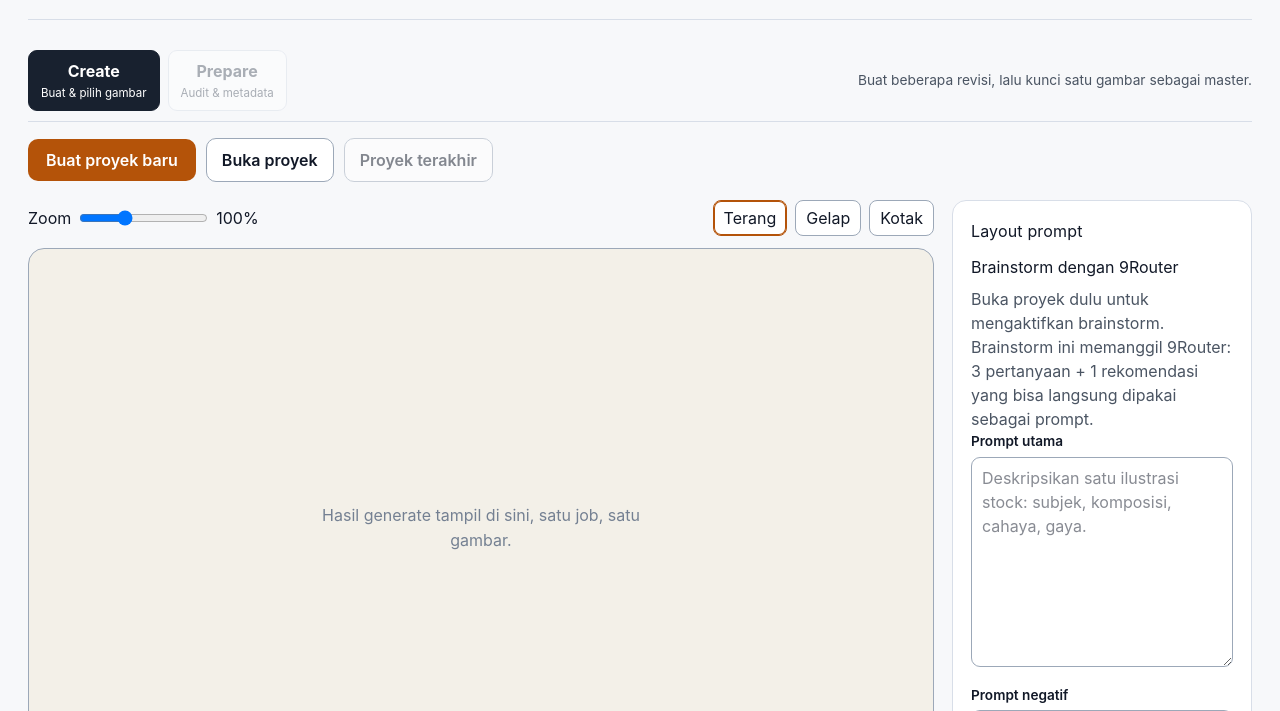
Test: Beranda — meja kerja studio › lists real project revisions in the kandidat strip after reopening a project with assets
Click the button "Buka proyek".
click(270, 160)  # box top-left (206, 138), bottom-right (334, 182)
(page scrolled)
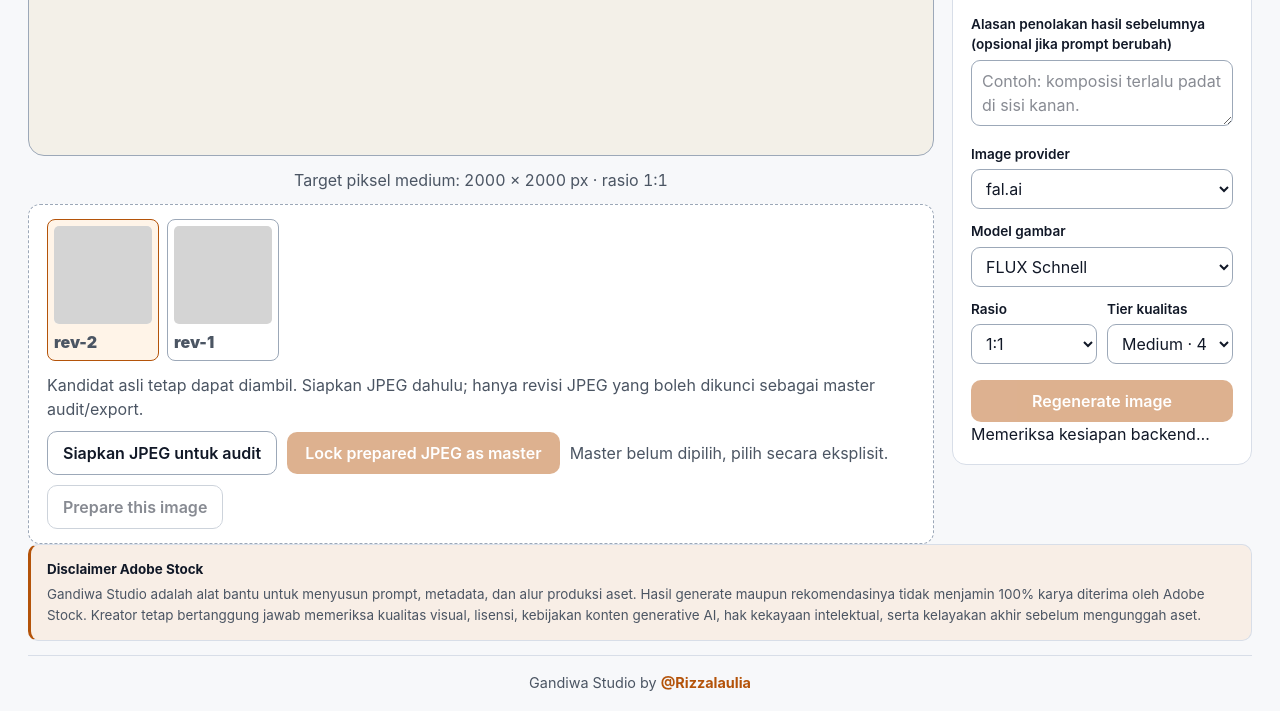
Check: the element named "Kandidat job terakhir" shows "rev-2", box top-left (28, 204), bottom-right (934, 544)
Check: the element named "Kandidat job terakhir" shows "rev-1", box top-left (28, 204), bottom-right (934, 544)
